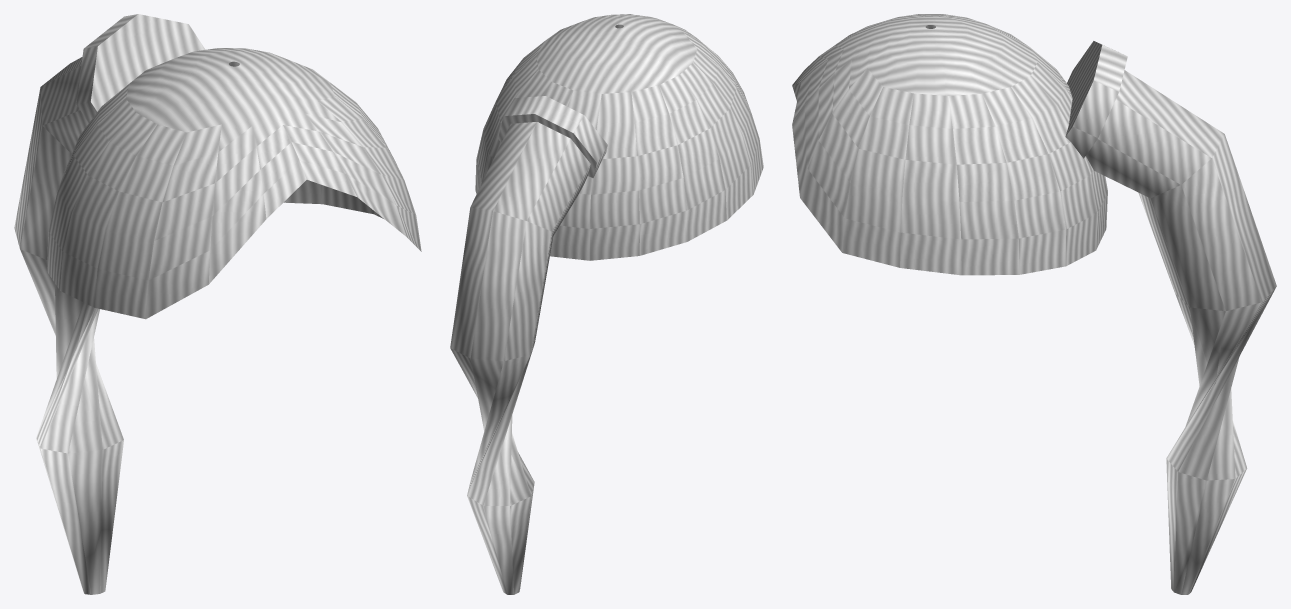
File: hair_ponytail.glb
3 renders of one model, left to right at view 1: azimuth 30°, elevation 25°; view 2: azimuth 150°, elevation 25°; view 3: azimuth 270°, elevation 25°, orthographic. The views are drawn at different scales.
Parts seen in each view (by area): view 1: hair_ponytail; view 2: hair_ponytail; view 3: hair_ponytail.
Boxes of the visible parts, box(x1,y1,x2,y2) form: hair_ponytail: box(14, 14, 421, 594); hair_ponytail: box(450, 14, 763, 594); hair_ponytail: box(792, 14, 1276, 594).
Bounding box in the file's own units: 0.254 × 0.4884 × 0.3795.
Materials: 1 (1 with a texture image).
